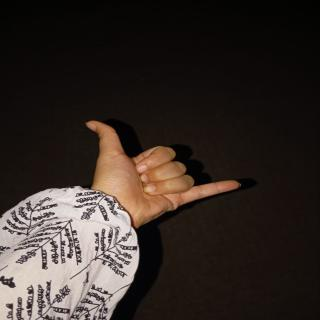YA: (77, 100, 256, 230)
